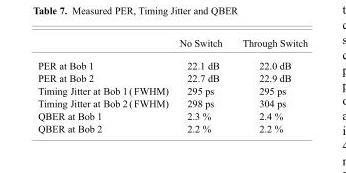table: (37, 36, 307, 133)
table column: (37, 36, 173, 133), (231, 36, 307, 133), (173, 36, 231, 133)
table column header: (37, 36, 307, 53)
table row: (37, 53, 307, 71), (37, 36, 307, 53), (37, 83, 307, 96), (37, 96, 307, 109), (37, 71, 307, 83), (37, 109, 307, 121), (37, 121, 307, 133)
